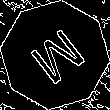M_SE: (21, 21, 89, 89)
